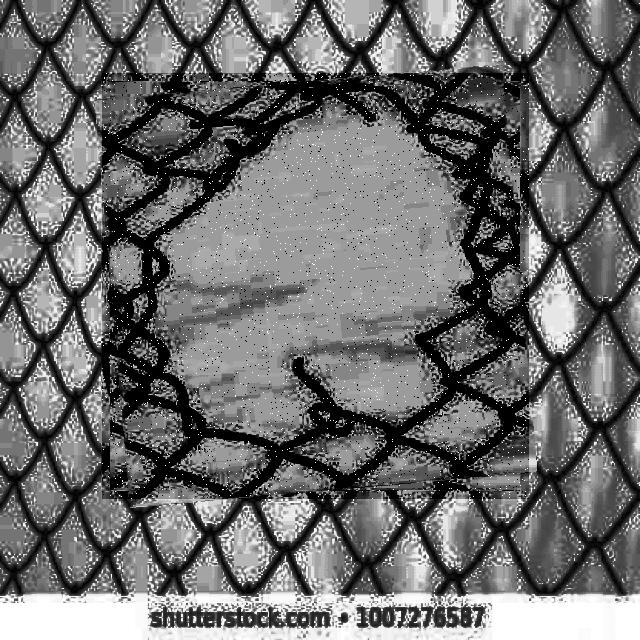anomaly-fence: (102, 73, 529, 499)
